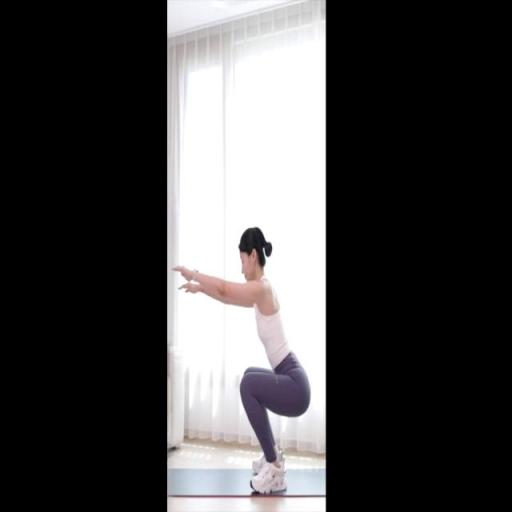Normal_BrenchPress: (172, 226, 312, 496)
